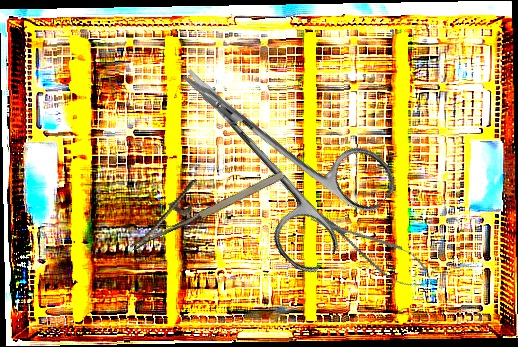Iris Scissors: (141, 20, 404, 280)
Micro Scissor: (304, 199, 441, 299)
Needle Holder: (115, 145, 287, 252)
